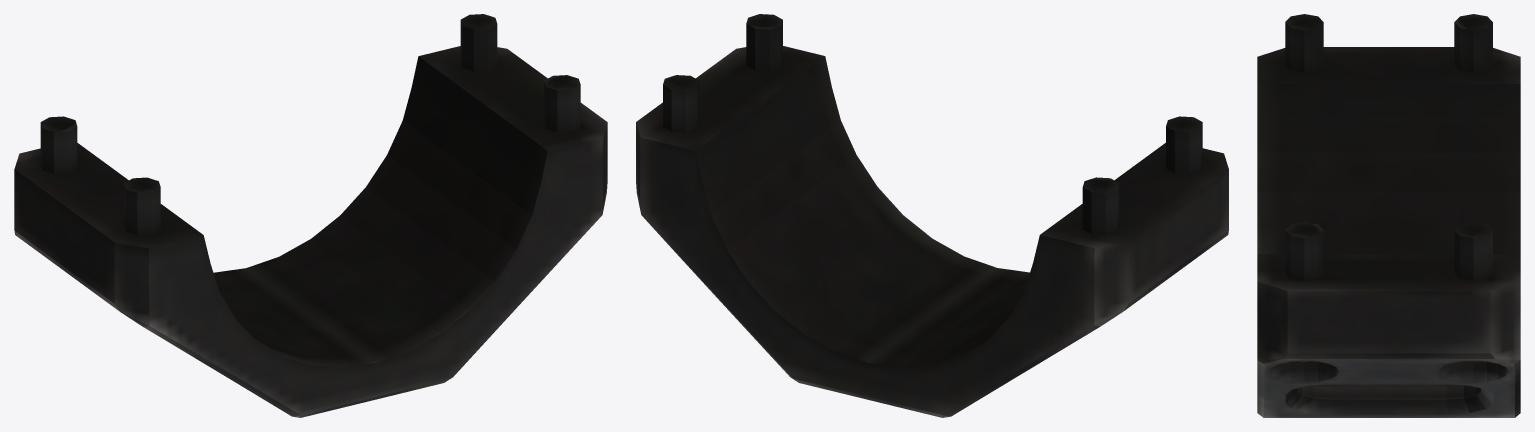
3 renders of one model, left to right at view 1: azimuth 30°, elevation 25°; view 2: azimuth 150°, elevation 25°; view 3: azimuth 270°, elevation 25°, orthographic.
Parts seen in each view (by area): view 1: TW_618b9671d14d6d5ab879c5ea_PZ_Import; view 2: TW_618b9671d14d6d5ab879c5ea_PZ_Import; view 3: TW_618b9671d14d6d5ab879c5ea_PZ_Import.
Boxes of the visible parts, x1,y1,x2,y2 form: TW_618b9671d14d6d5ab879c5ea_PZ_Import: [14, 14, 607, 417]; TW_618b9671d14d6d5ab879c5ea_PZ_Import: [636, 14, 1228, 417]; TW_618b9671d14d6d5ab879c5ea_PZ_Import: [1257, 14, 1520, 417].
Bounding box in the file's own units: 0.0252 × 0.0115 × 0.0123.
Materials: 1 (1 with a texture image).
